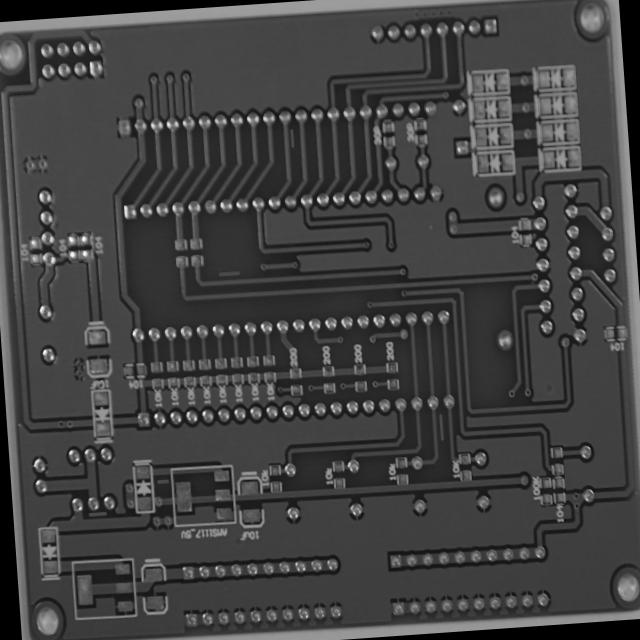spurious_copper: (214, 264, 243, 282), (434, 410, 448, 445), (86, 505, 110, 522), (284, 124, 298, 150), (155, 471, 171, 491)
